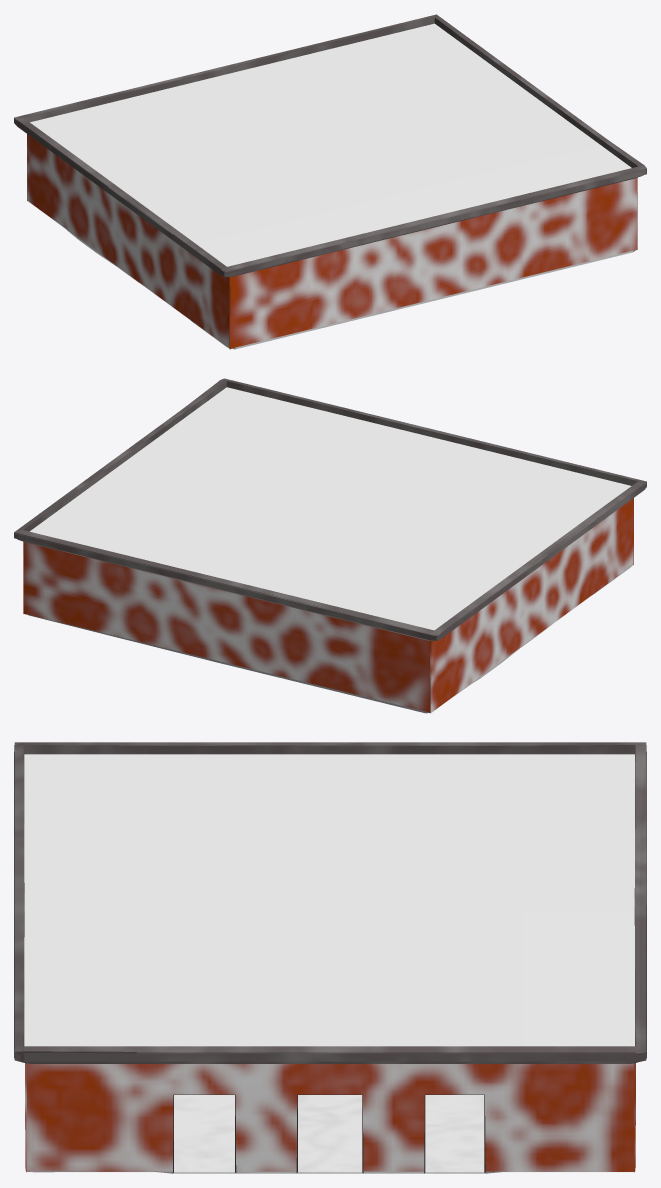
File: shop2_6.fbx
3 renders of one model, top to bottom at view 1: azimuth 30°, elevation 25°; view 2: azimuth 150°, elevation 25°; view 3: azimuth 270°, elevation 25°, orthographic. The views are drawn at different scales.
Visible parts, largest first — view 1: Cube; view 2: Cube; view 3: Cube.
Boxes of the visible parts, bbox=[...] form: Cube: bbox=[14, 14, 646, 349]; Cube: bbox=[14, 378, 646, 713]; Cube: bbox=[14, 742, 646, 1173].
Size of the model in its own units: 38499 by 7402 by 33185.
